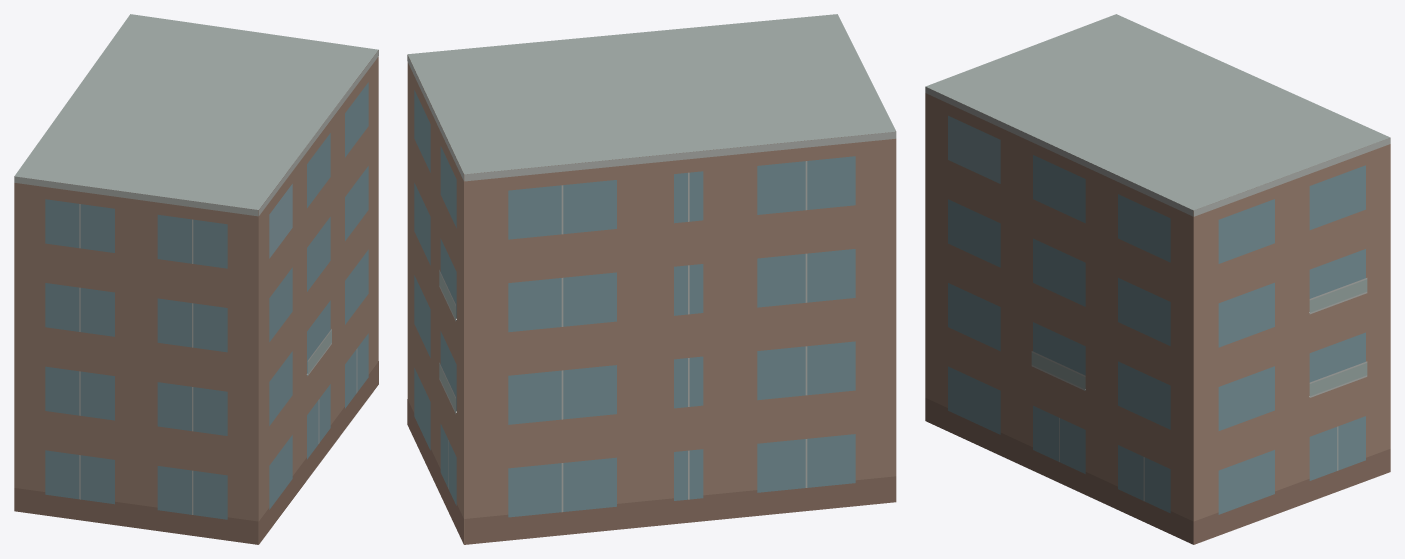
The model's file is survey-upis-32998960.glb.
3 renders of one model, left to right at view 1: azimuth 30°, elevation 25°; view 2: azimuth 150°, elevation 25°; view 3: azimuth 270°, elevation 25°, orthographic. The views are drawn at different scales.
Parts seen in each view (by area): view 1: survey-upis-32998960.tmp; view 2: survey-upis-32998960.tmp; view 3: survey-upis-32998960.tmp.
Part boxes in pixels (x1,y1,x2,y2): survey-upis-32998960.tmp: (14, 14, 378, 544); survey-upis-32998960.tmp: (407, 14, 896, 544); survey-upis-32998960.tmp: (925, 14, 1390, 544).
Size of the model in its own units: 16.12 by 12.79 by 16.14.
